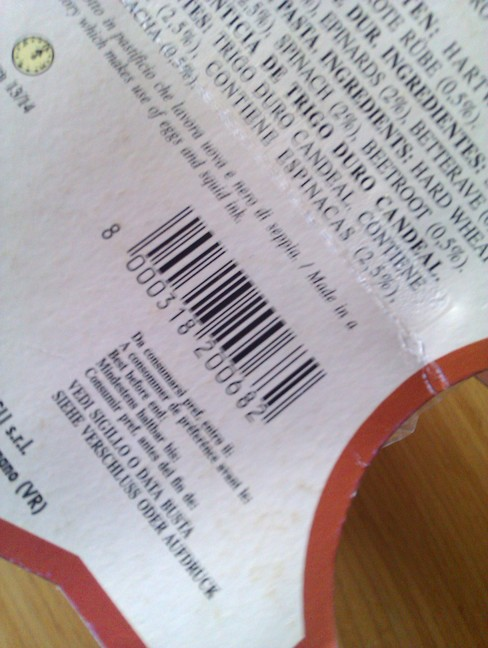barcode: (82, 195, 338, 435)
